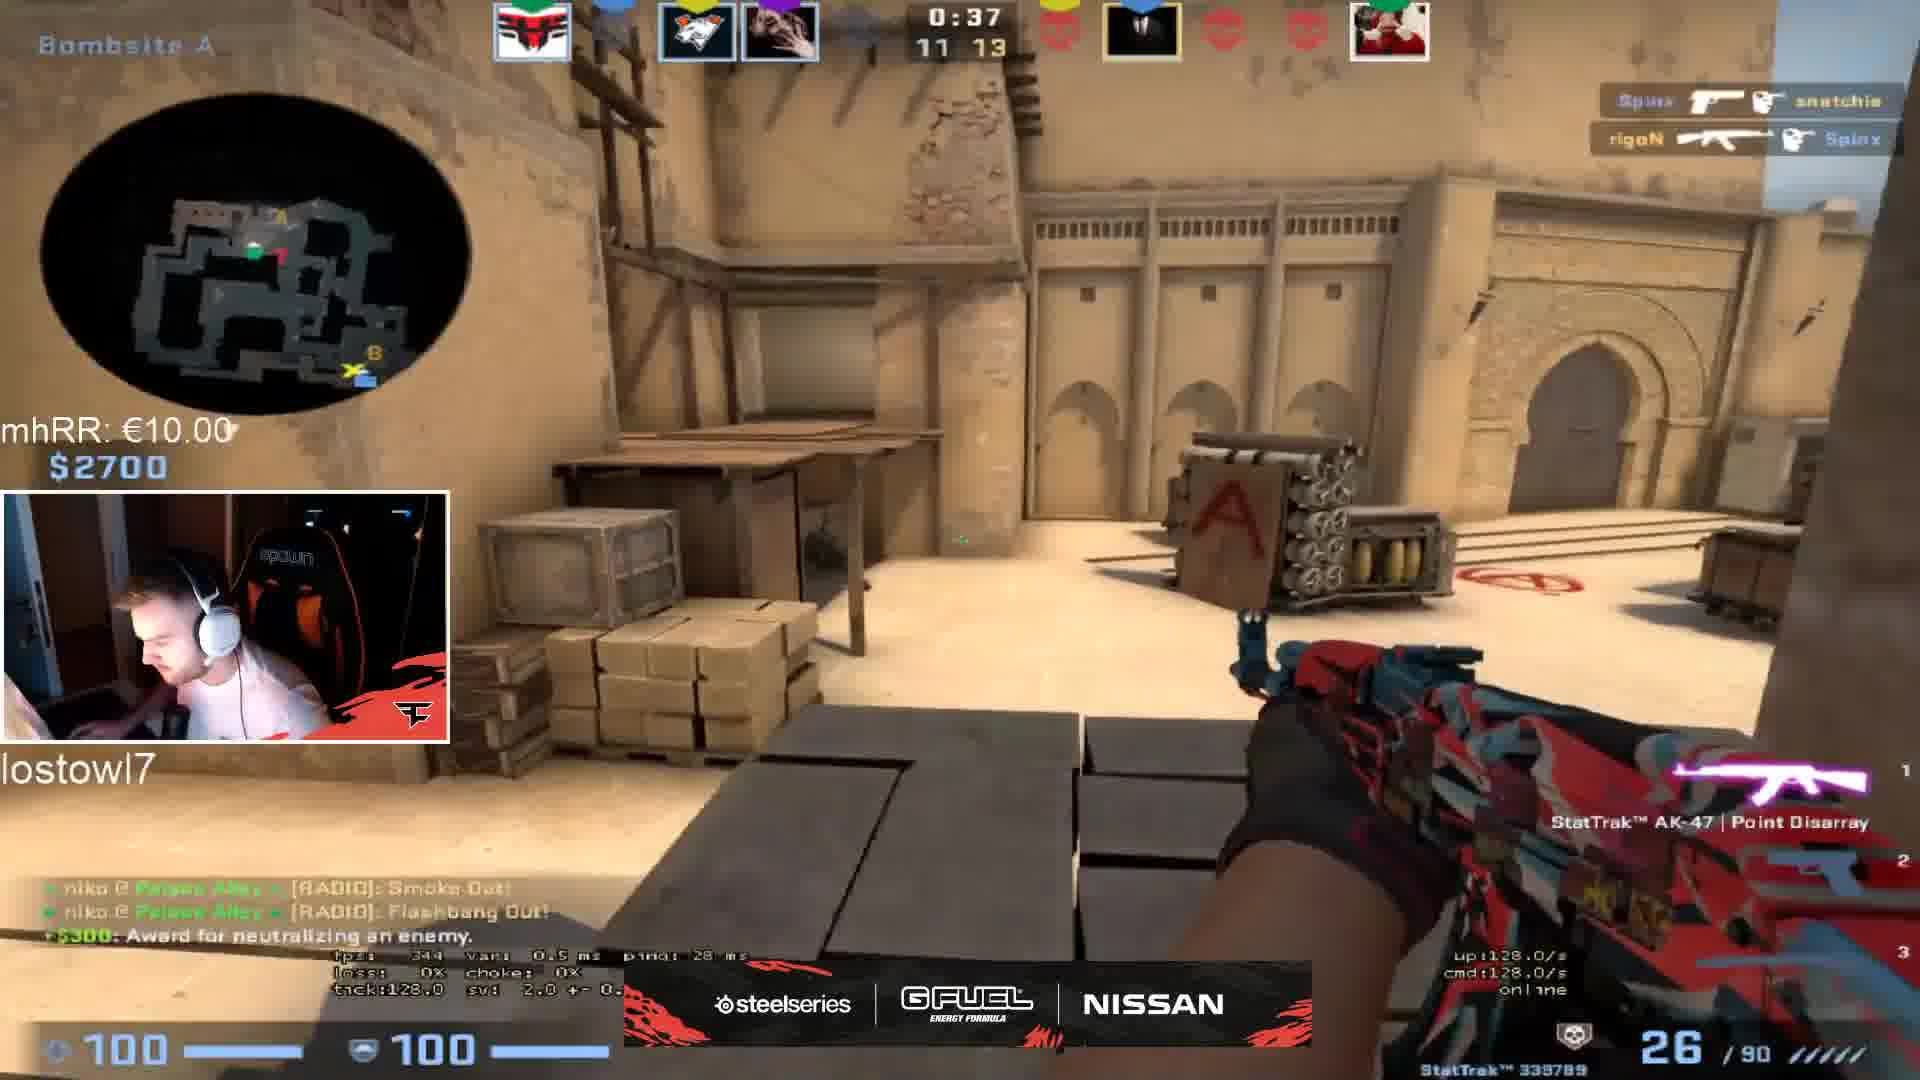enemy: (799, 517, 858, 587)
